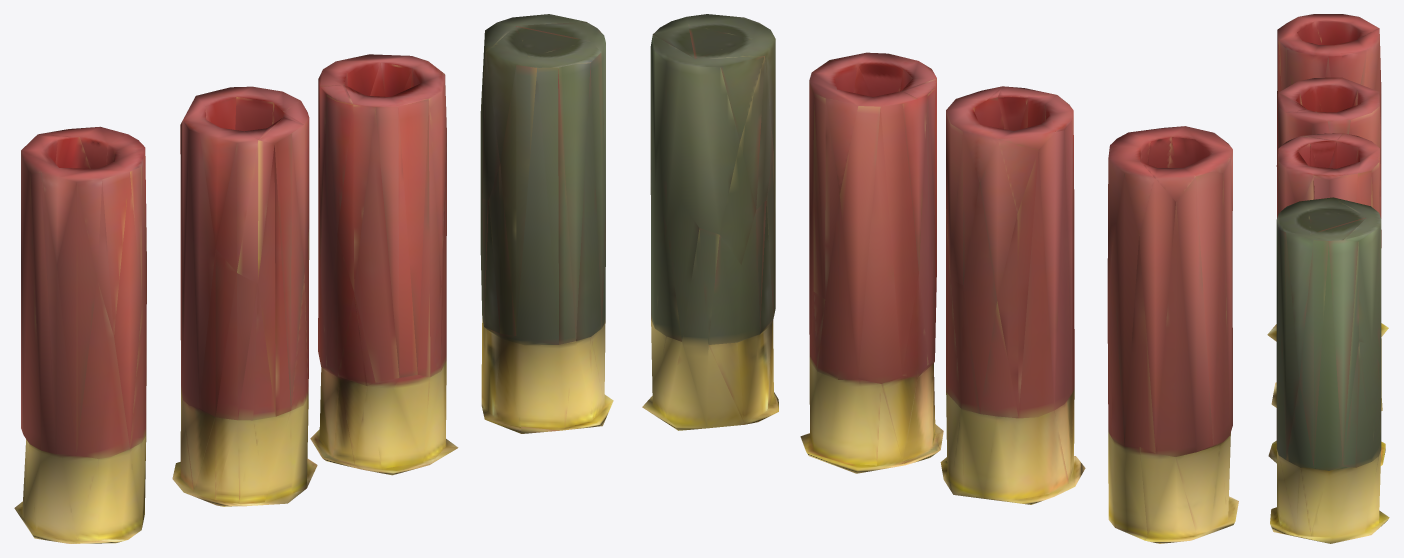
The model's file is ammo_shotgun.glb.
3 views of the same model, side by side, from view 1: azimuth 30°, elevation 25°; view 2: azimuth 150°, elevation 25°; view 3: azimuth 270°, elevation 25° (orthographic). The views are drawn at different scales.
Parts seen in each view (by area): view 1: Mesh_0.001; view 2: Mesh_0.001; view 3: Mesh_0.001.
Boxes of the visible parts, <box> form: Mesh_0.001: <box>14,14,613,543</box>; Mesh_0.001: <box>642,14,1238,543</box>; Mesh_0.001: <box>1267,14,1389,543</box>.
Bounding box in the file's own units: 0.9341 × 0.5701 × 0.2094.
Materials: 1 (1 with a texture image).
